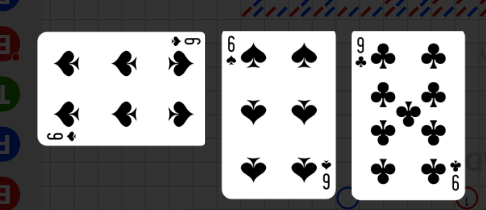6S: (46, 130, 80, 144), (226, 35, 238, 68)
9C: (355, 36, 369, 70)
